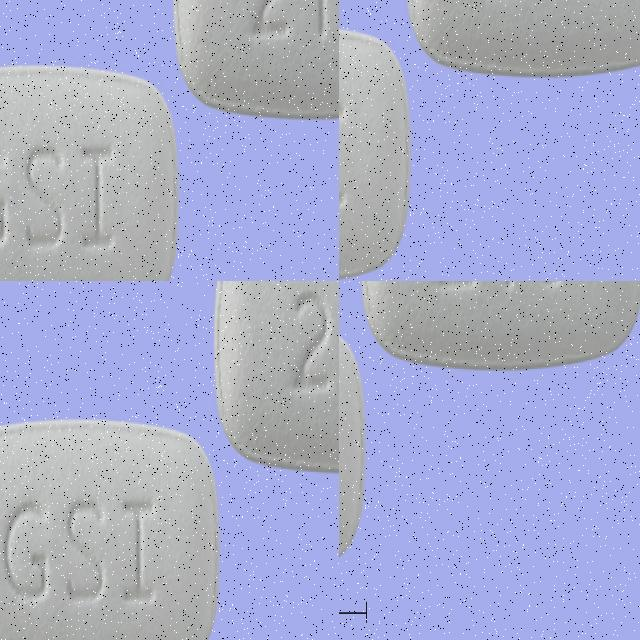Bearcin: (0, 410, 228, 640), (203, 281, 339, 487)
Boryung Nitrofurantoin: (0, 97, 240, 281), (112, 0, 339, 96)
Cefixime Cap- Nelson: (339, 157, 505, 281)
Descovy -25mg: (359, 281, 640, 373)
